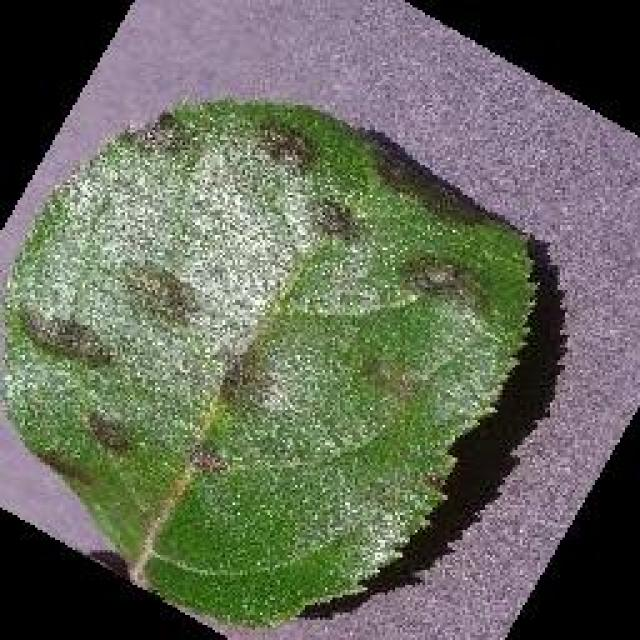apple scab disease: (0, 92, 542, 632)
